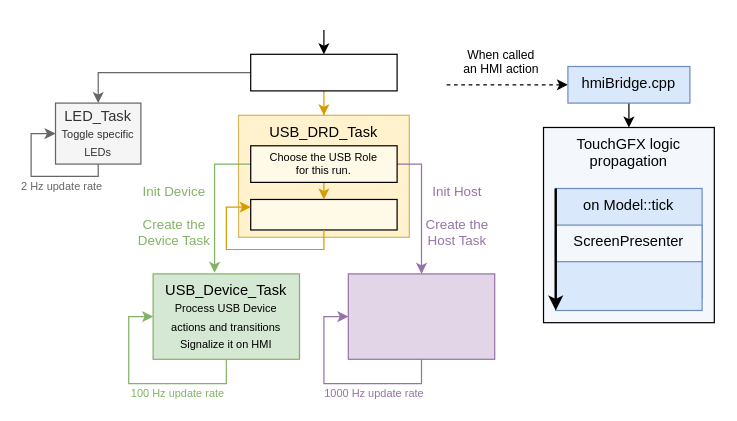
Some shapes in this 737 by 421 pixel diagram are drawn without their labels. Each missing label, with the centre of its shape:
"main.c" goes at point (323, 72).
"Monitor the user button" goes at point (323, 214).
"ScreenView Do the HMI action" goes at point (628, 285).
"USB_Host_Task Process USB Host actions and transitions Signalize it on HMI" goes at point (421, 316).
